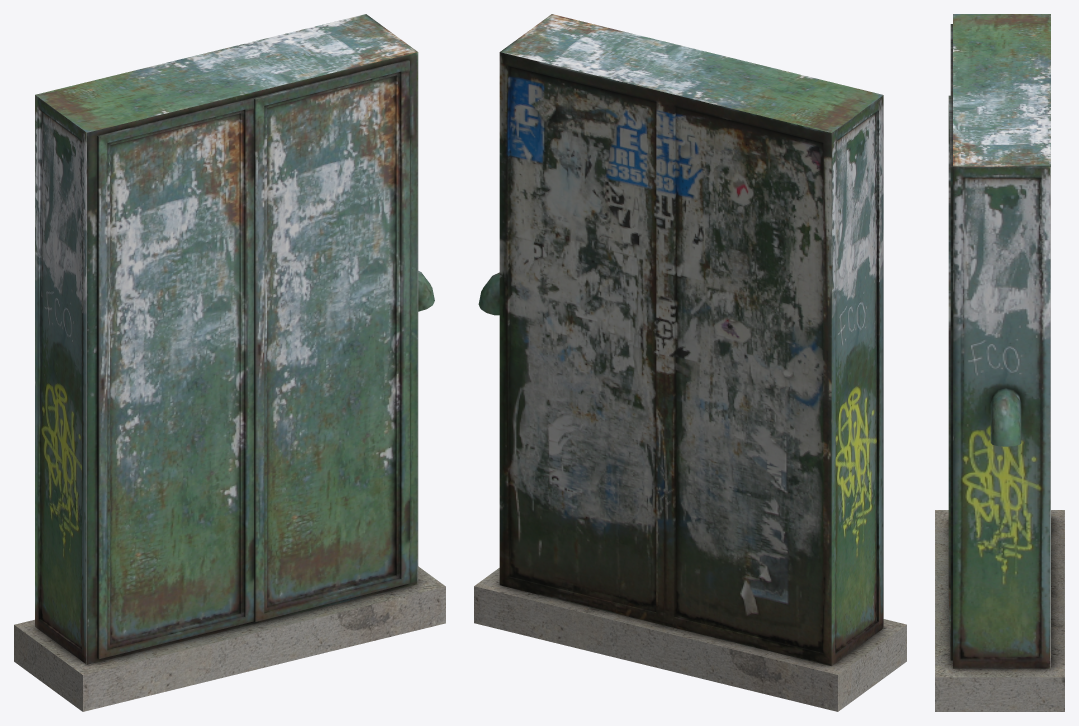
File: panel_04.FBX.fbx
3 renders of one model, left to right at view 1: azimuth 30°, elevation 25°; view 2: azimuth 150°, elevation 25°; view 3: azimuth 270°, elevation 25°, orthographic. The views are drawn at different scales.
Visible parts, largest first — view 1: panel_04, panel_04_stand; view 2: panel_04, panel_04_stand; view 3: panel_04, panel_04_stand.
Part boxes in pixels (x1=…): panel_04: x1=35, y1=14, x2=434, y2=664; panel_04_stand: x1=14, y1=566, x2=445, y2=711; panel_04: x1=478, y1=14, x2=883, y2=666; panel_04_stand: x1=474, y1=568, x2=906, y2=711; panel_04: x1=948, y1=14, x2=1050, y2=668; panel_04_stand: x1=935, y1=510, x2=1064, y2=711.
Size of the model in its own units: 1.1 by 1.54 by 0.3379.
2 materials, 2 textured.
